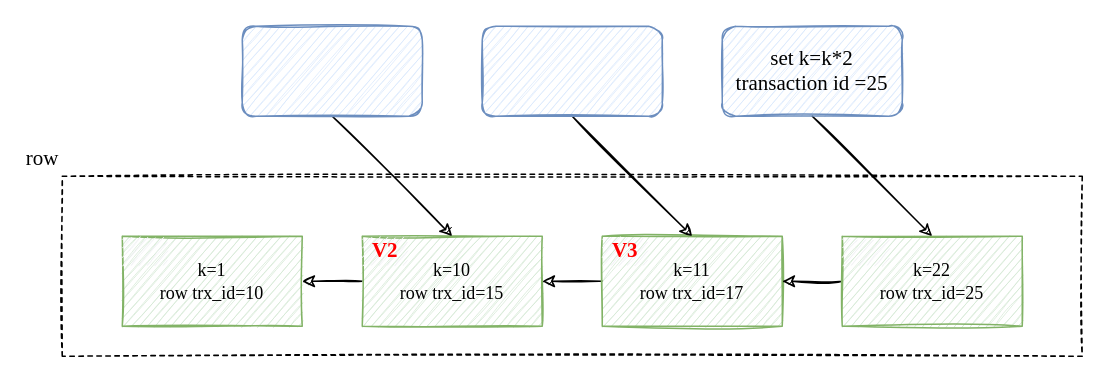
This 1109x383 diagram has some shape labels left out. The shapes that lost their labels are listed below. From the top down, each one's centre as x and y in pixels, then its label:
the point at 331,70: set k=10 transaction id =15
the point at 571,70: set k=k+1 transaction id =17
the point at 144,251: V1
the point at 864,251: V4
